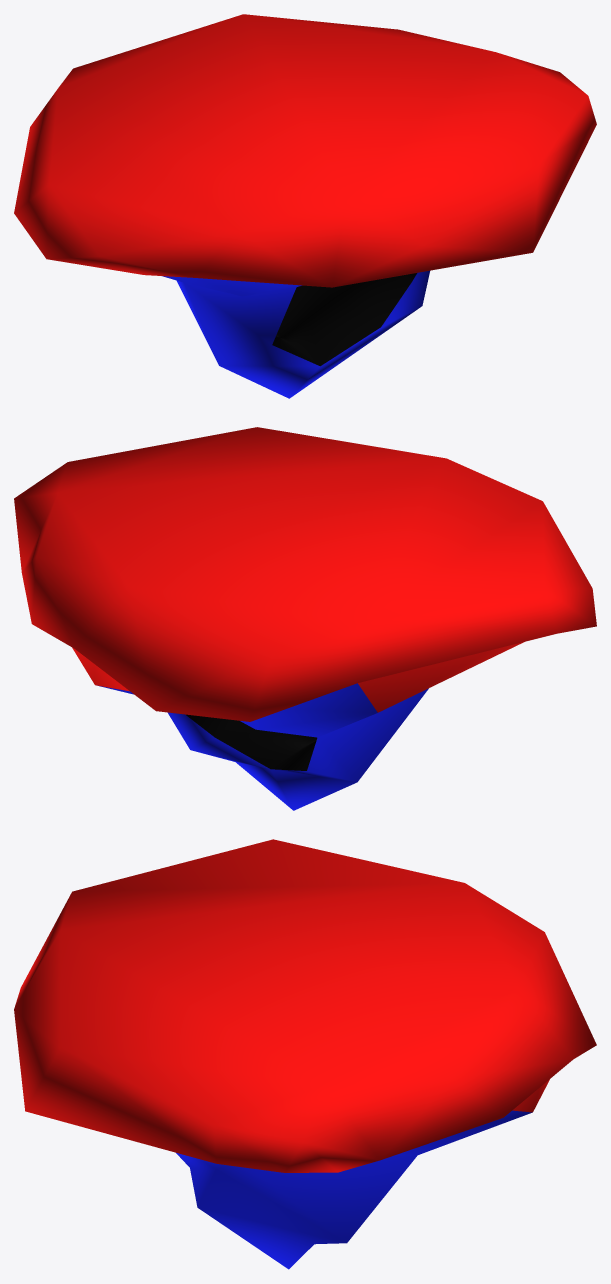
The model's file is Rock_Island_2.fbx.
The picture shows the model from 3 angles, top to bottom: view 1: azimuth 30°, elevation 25°; view 2: azimuth 150°, elevation 25°; view 3: azimuth 270°, elevation 25°; orthographic projection. The views are drawn at different scales.
Parts seen in each view (by area): view 1: Rock_Island_2; view 2: Rock_Island_2; view 3: Rock_Island_2.
Part boxes in pixels (bbox=[...]): Rock_Island_2: bbox=[14, 14, 596, 398]; Rock_Island_2: bbox=[14, 427, 596, 810]; Rock_Island_2: bbox=[14, 839, 596, 1269].
Size of the model in its own units: 7233 by 3652 by 6151.
